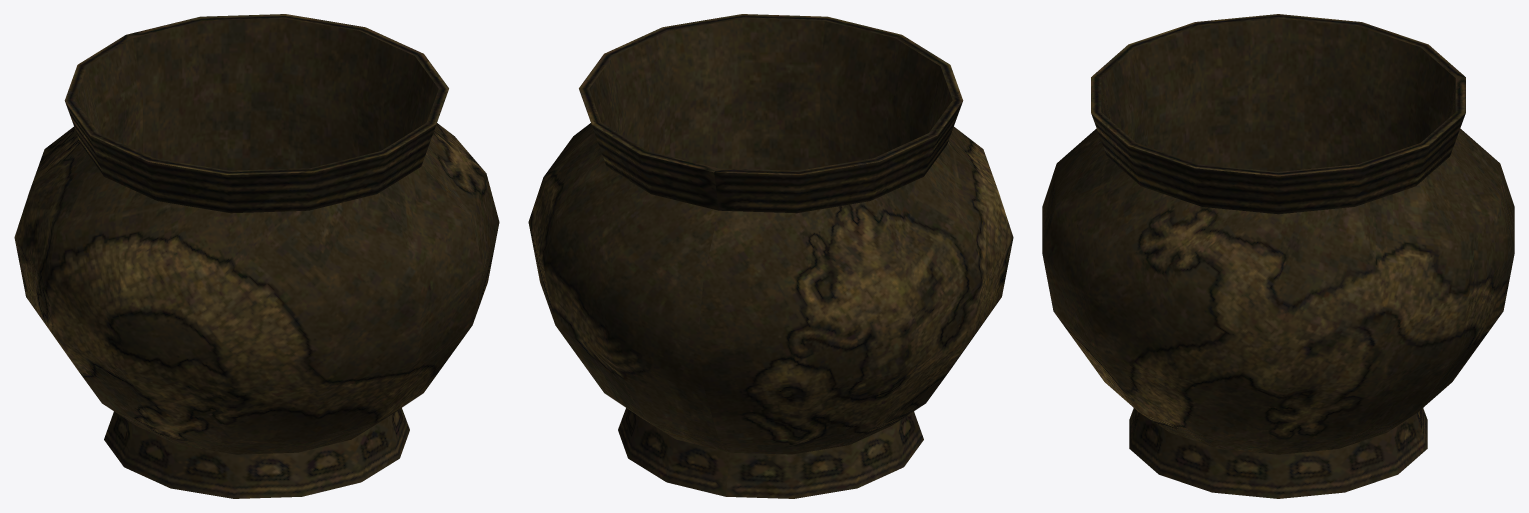
The model's file is plant_pot01.DAE.
3 renders of one model, left to right at view 1: azimuth 30°, elevation 25°; view 2: azimuth 150°, elevation 25°; view 3: azimuth 270°, elevation 25°, orthographic.
Parts seen in each view (by area): view 1: Box001; view 2: Box001; view 3: Box001.
Boxes of the visible parts, x1,y1,x2,y2 form: Box001: (14,14,499,498); Box001: (528,14,1013,498); Box001: (1042,14,1514,498).
Bounding box in the file's own units: 0.8386 × 0.8176 × 0.6473.
